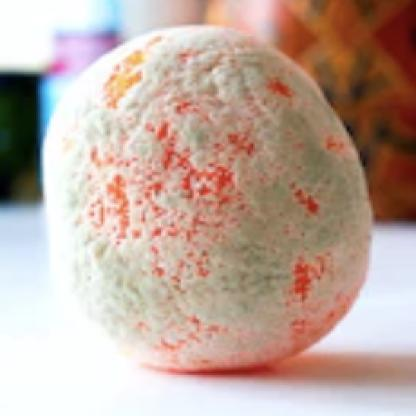rotten: (45, 23, 374, 377)
